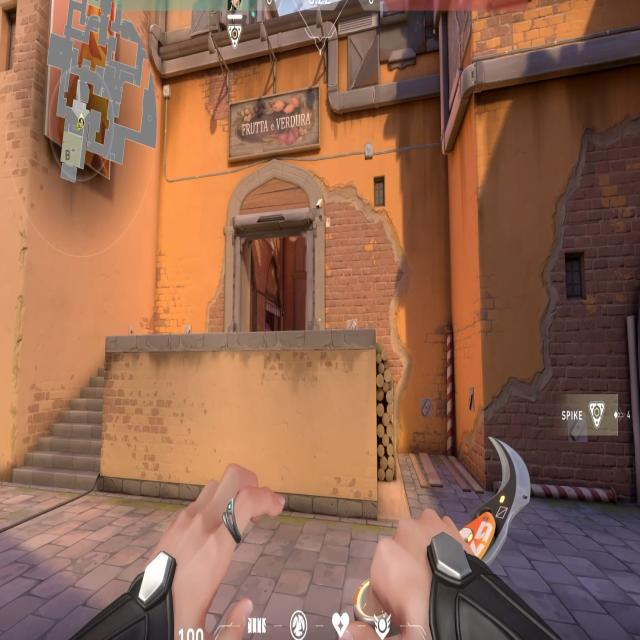B_Cubby: (359, 295, 493, 506)
